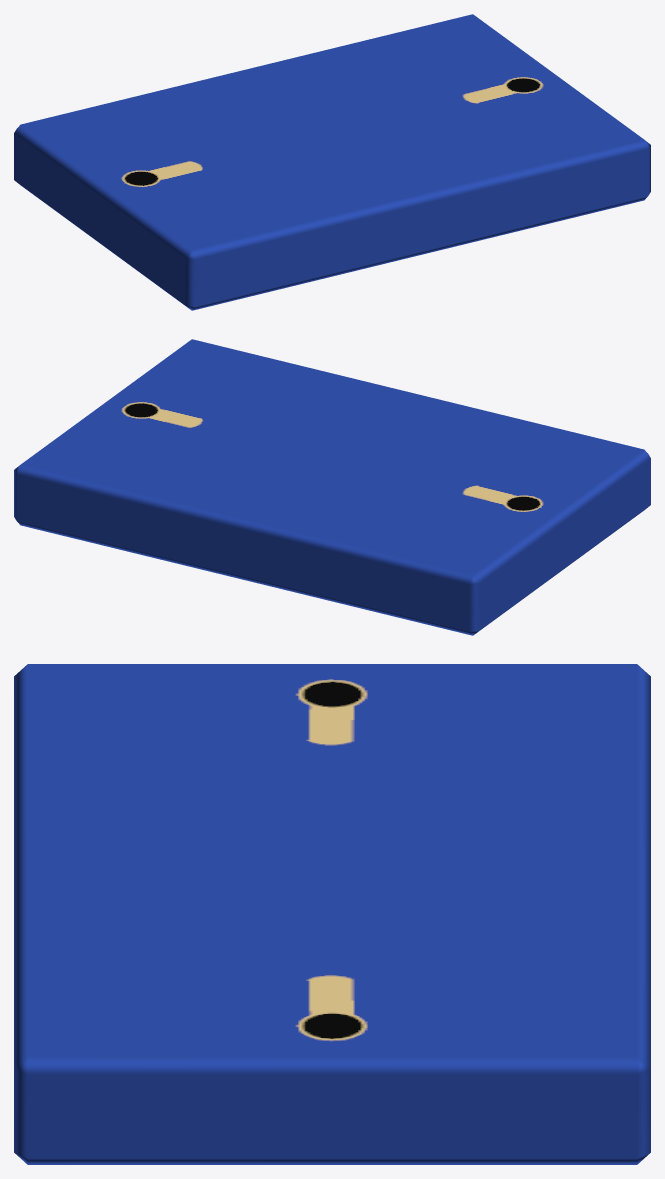
The model's file is Platform.fbx.
The picture shows the model from 3 angles, top to bottom: view 1: azimuth 30°, elevation 25°; view 2: azimuth 150°, elevation 25°; view 3: azimuth 270°, elevation 25°; orthographic projection. The views are drawn at different scales.
Parts seen in each view (by area): view 1: Platform; view 2: Platform; view 3: Platform.
Part boxes in pixels (bbox=[...]): Platform: bbox=[14, 14, 650, 310]; Platform: bbox=[14, 339, 650, 635]; Platform: bbox=[14, 664, 650, 1164].
Bounding box in the file's own units: 6 × 0.75 × 4.
